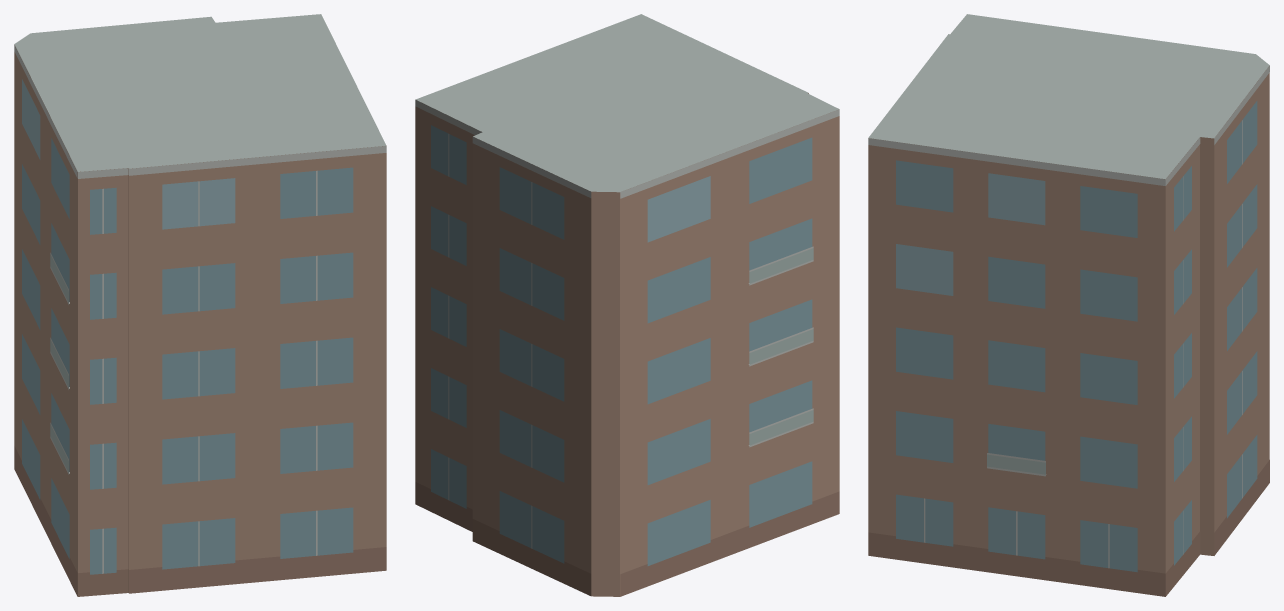
Rendered from survey-upis-32965913.glb.
3 renders of one model, left to right at view 1: azimuth 30°, elevation 25°; view 2: azimuth 150°, elevation 25°; view 3: azimuth 270°, elevation 25°, orthographic. The views are drawn at different scales.
Visible parts, largest first — view 1: survey-upis-32965913.tmp; view 2: survey-upis-32965913.tmp; view 3: survey-upis-32965913.tmp.
Boxes of the visible parts, x1,y1,x2,y2 form: survey-upis-32965913.tmp: [14, 14, 386, 596]; survey-upis-32965913.tmp: [415, 14, 839, 596]; survey-upis-32965913.tmp: [868, 14, 1269, 596].
Bounding box in the file's own units: 12.39 × 14.6 × 12.73.
